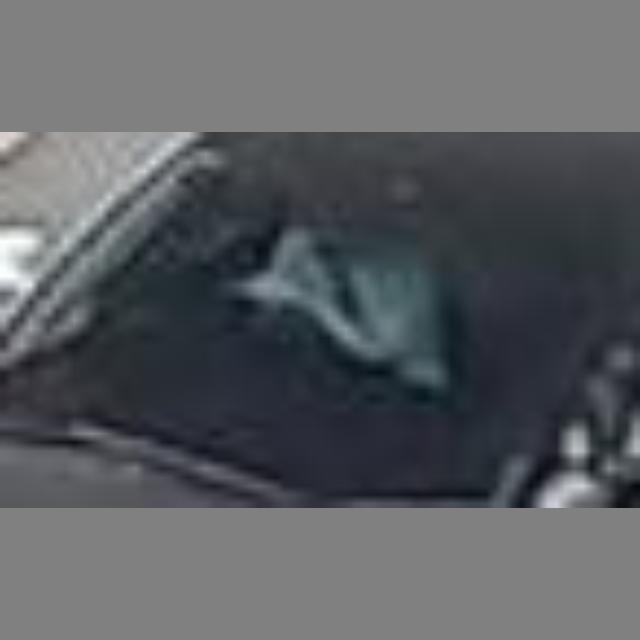pakai: (202, 202, 456, 395)
